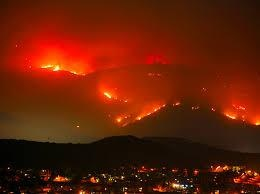fire: (222, 100, 260, 124), (36, 59, 88, 74), (133, 103, 164, 121)
